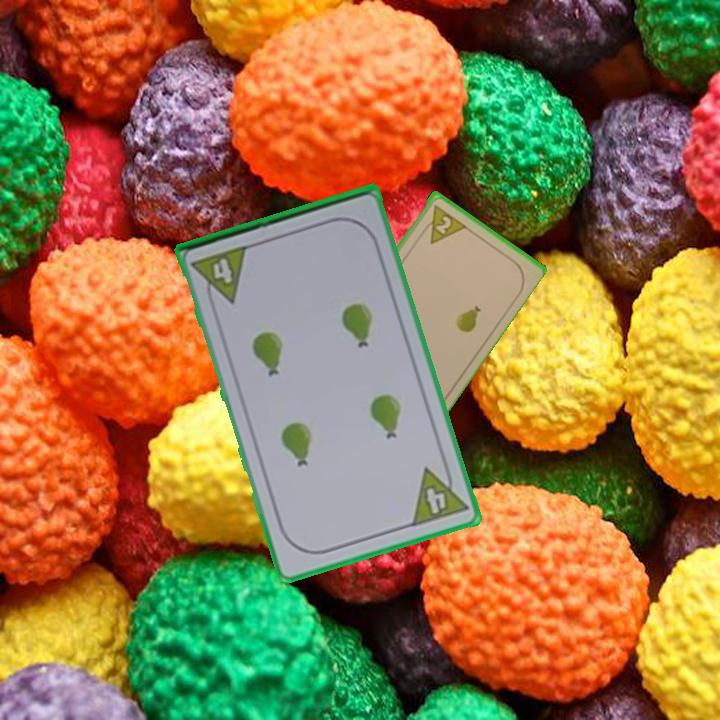2p: (417, 200, 468, 247)
4p: (408, 458, 471, 530), (188, 241, 251, 311)
